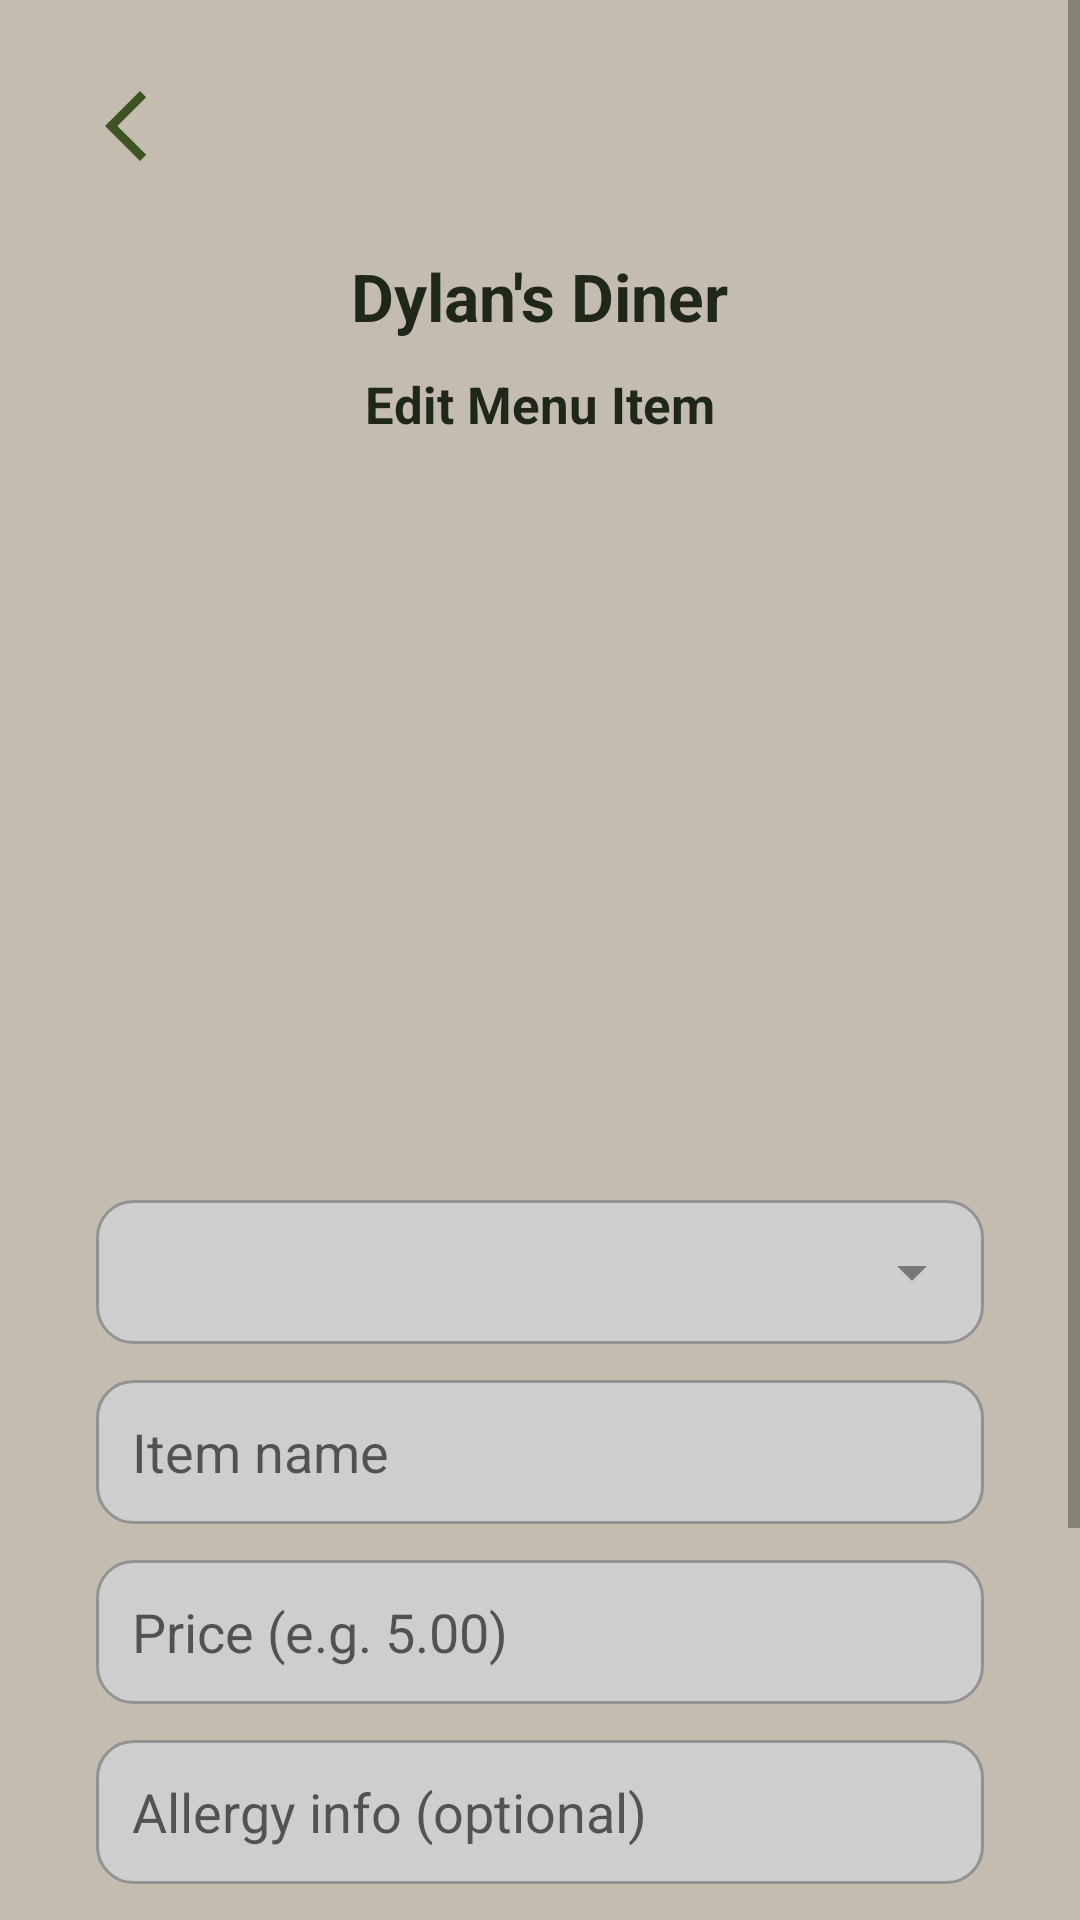

Where icons sit on this 1080×1920 app screen, as (x1, y1, x2, y2):
Back: (105, 91, 146, 161)
